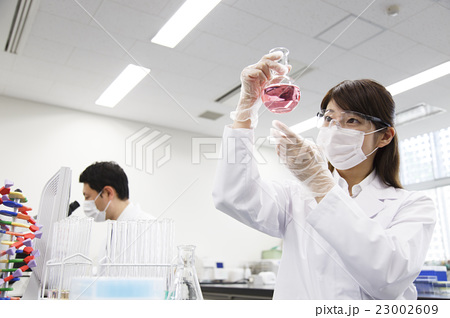mask: (312, 126, 369, 173), (79, 199, 106, 224)
